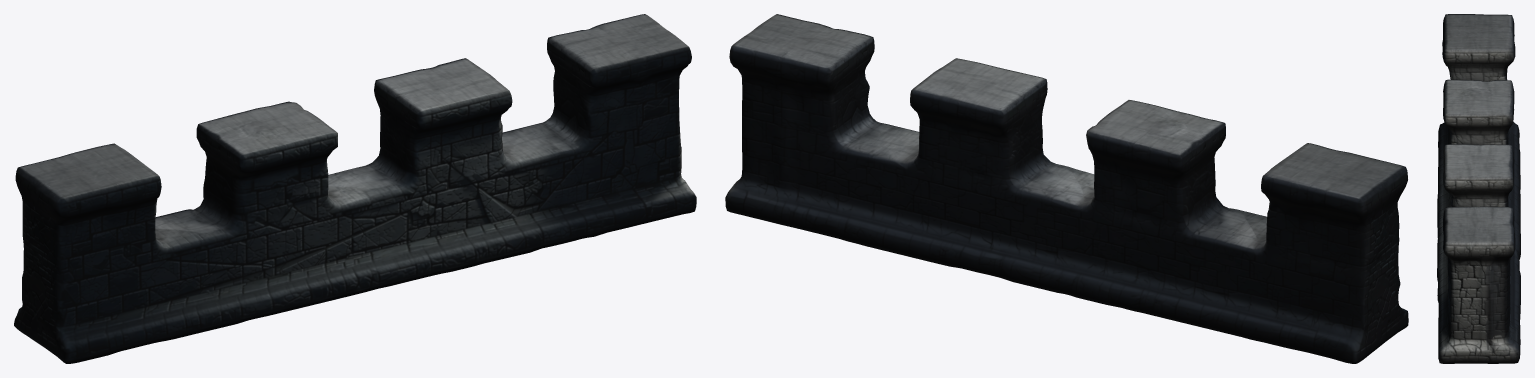
The model's file is wall.fbx.
The picture shows the model from 3 angles, left to right: view 1: azimuth 30°, elevation 25°; view 2: azimuth 150°, elevation 25°; view 3: azimuth 270°, elevation 25°; orthographic projection. The views are drawn at different scales.
Visible parts, largest first — view 1: Untitled; view 2: Untitled; view 3: Untitled.
Boxes of the visible parts, left/top/right/bottom form: Untitled: left=14, top=14, right=696, bottom=363; Untitled: left=725, top=14, right=1408, bottom=363; Untitled: left=1437, top=14, right=1520, bottom=363.
Size of the model in its own units: 100 by 25.02 by 15.32.
Materials: 1 (1 with a texture image).
